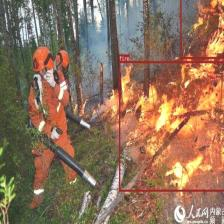fire: (118, 60, 224, 191), (180, 0, 224, 58)
